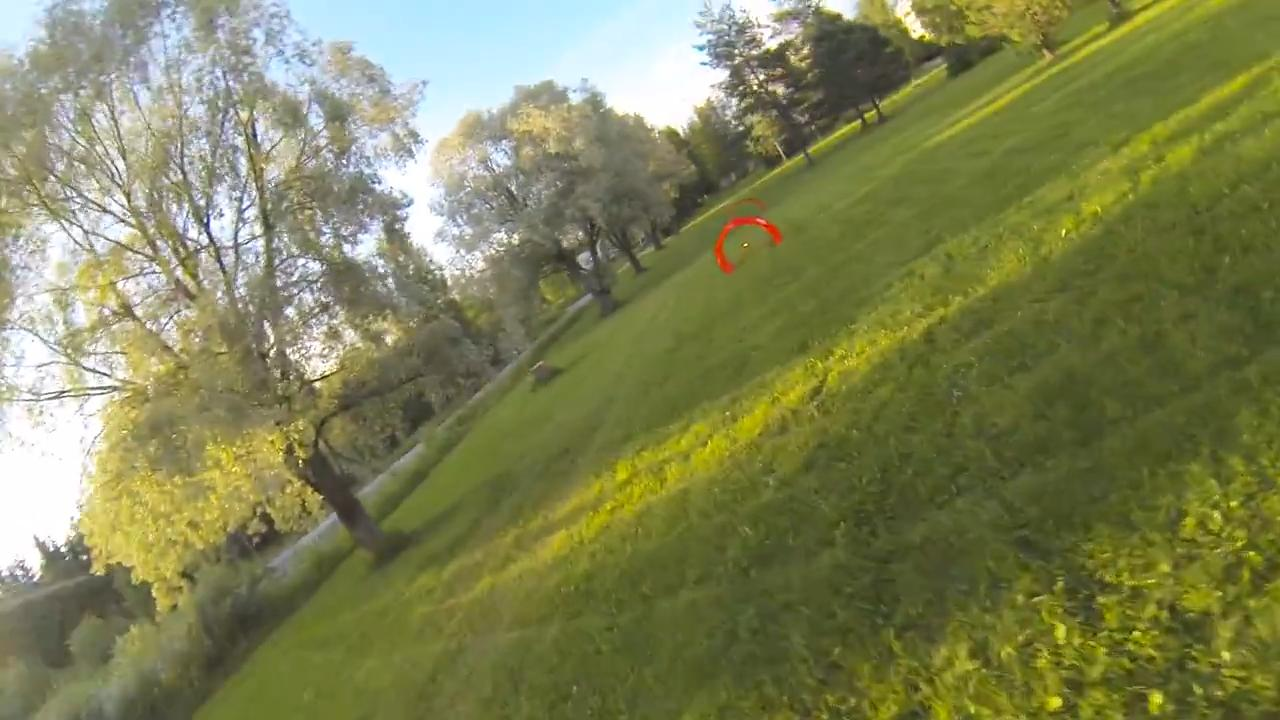gate: (714, 216, 788, 277)
